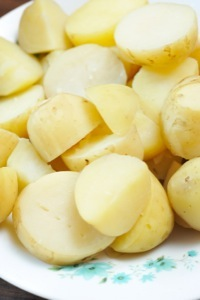boiled potatoes: (7, 11, 200, 256)
